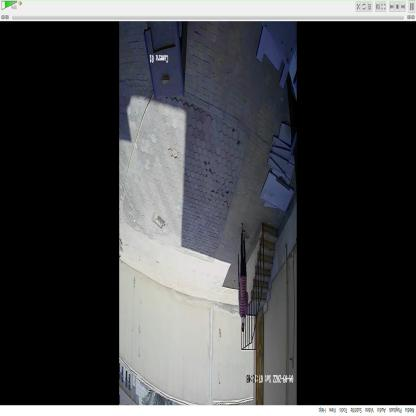handgun: (235, 250, 242, 291)
